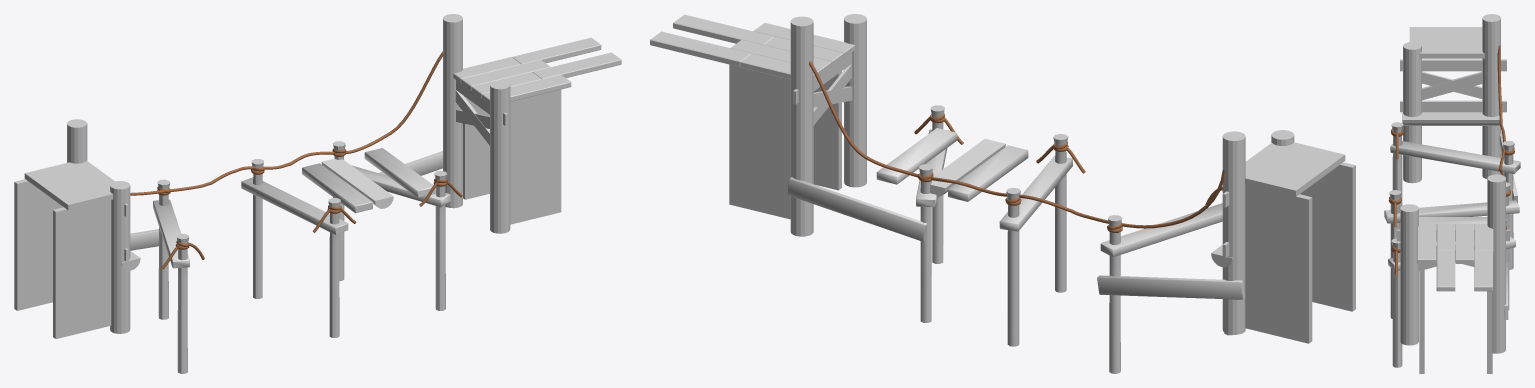
The model's file is block_minigame_1.fbx.
3 renders of one model, left to right at view 1: azimuth 30°, elevation 25°; view 2: azimuth 150°, elevation 25°; view 3: azimuth 270°, elevation 25°, orthographic. The views are drawn at different scales.
Visible parts, largest first — view 1: Cube.006, Cube.021, Cube.022, Cylinder.020; view 2: Cube.006, Cube.022, Cube.021, Cylinder.020; view 3: Cube.006, Cube.021.
Boxes of the visible parts, x1,y1,x2,y2 form: Cube.006: [14, 14, 621, 373]; Cube.021: [302, 163, 372, 213]; Cube.022: [364, 148, 435, 197]; Cylinder.020: [321, 158, 393, 208]; Cube.006: [650, 14, 1355, 373]; Cube.022: [876, 128, 957, 184]; Cube.021: [948, 145, 1028, 201]; Cylinder.020: [930, 138, 1005, 197]; Cube.006: [1384, 14, 1520, 373]; Cube.021: [1419, 217, 1487, 224].
Size of the model in its own units: 3083 by 1196 by 681.
